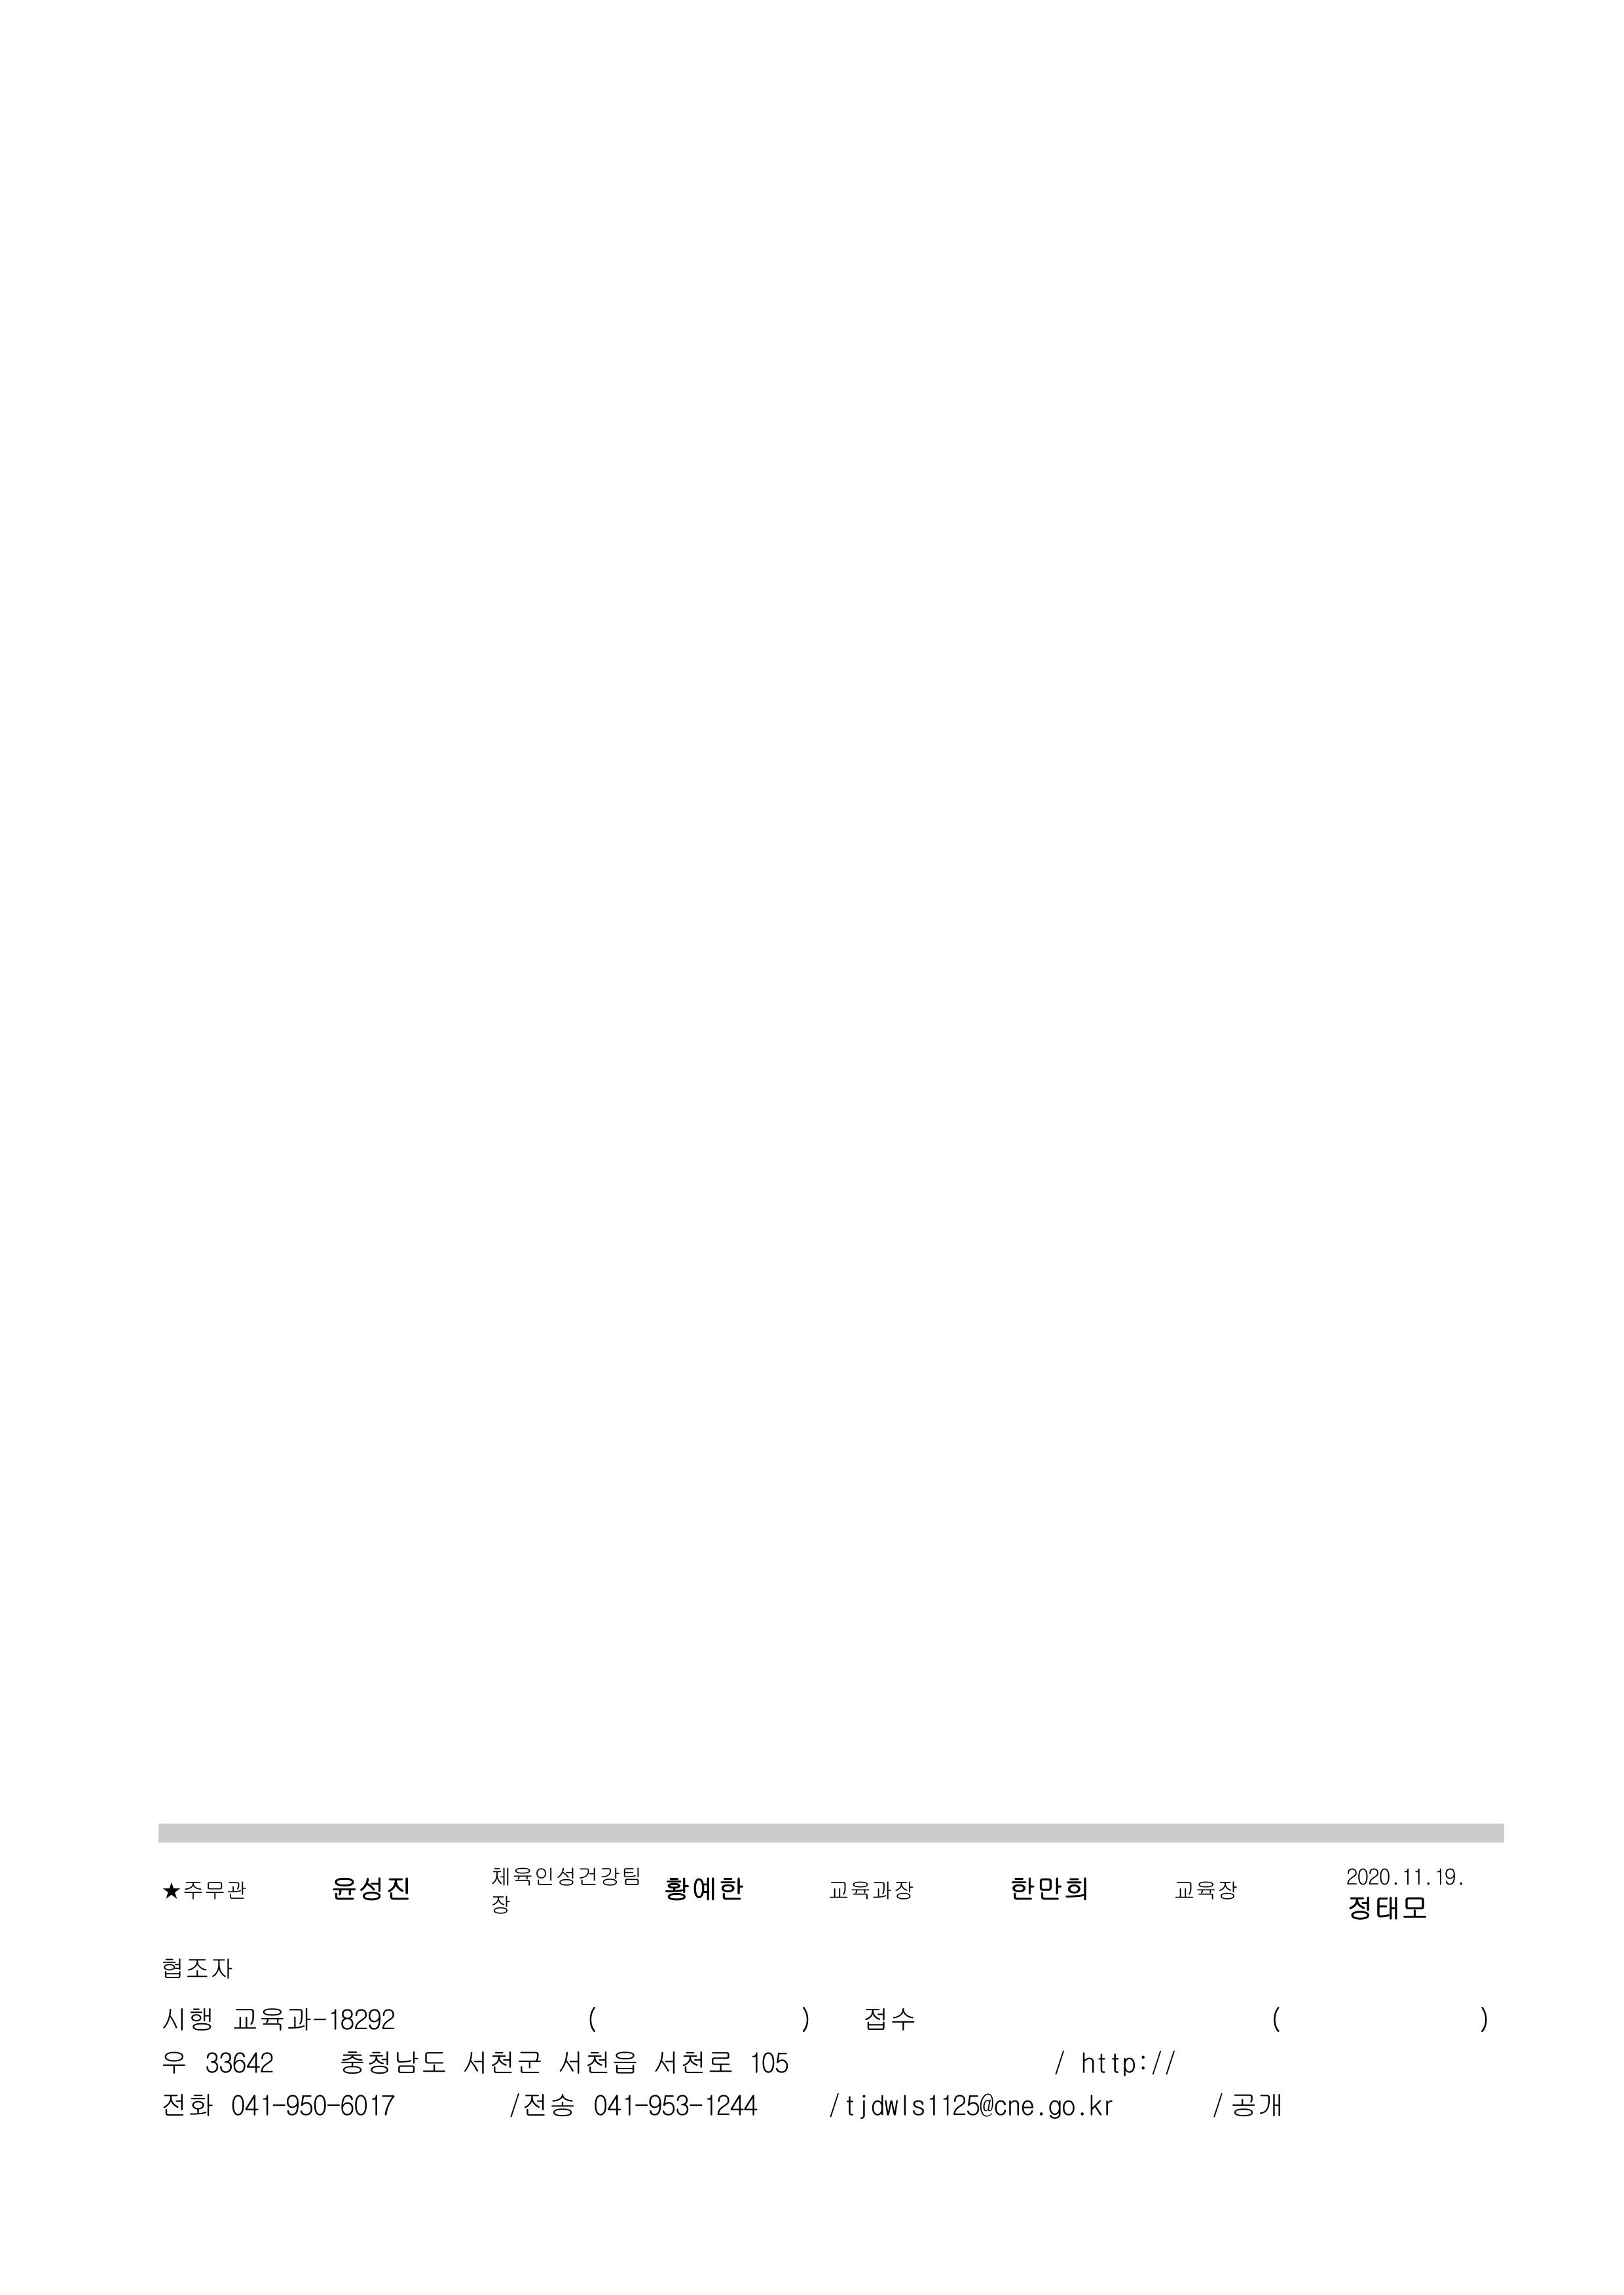t: (232, 2008, 397, 2033), (337, 2044, 448, 2080), (1079, 2051, 1179, 2080), (842, 2094, 939, 2123), (459, 2044, 545, 2076), (329, 1871, 412, 1904), (1007, 1871, 1090, 1904), (555, 2044, 638, 2076), (552, 1861, 642, 1890), (1344, 1893, 1427, 1922), (652, 2047, 735, 2076), (828, 1879, 918, 1904), (950, 2094, 1036, 2119), (200, 2047, 276, 2076), (164, 1879, 247, 1904), (506, 2090, 577, 2119), (688, 1871, 746, 1904), (161, 1958, 232, 1983), (860, 2000, 914, 2033), (337, 2090, 397, 2119), (1172, 1879, 1240, 1904), (491, 1864, 555, 1890), (161, 2004, 215, 2033), (161, 2090, 215, 2119), (1230, 2090, 1283, 2119), (283, 2094, 341, 2119), (703, 2094, 760, 2119), (645, 2094, 699, 2119), (746, 2047, 792, 2076), (229, 2094, 276, 2119), (591, 2094, 638, 2119), (1344, 1868, 1395, 1890), (1047, 2097, 1090, 2123), (667, 1875, 688, 1904), (1086, 2097, 1115, 2119), (1402, 1868, 1427, 1890), (1434, 1868, 1459, 1890)
